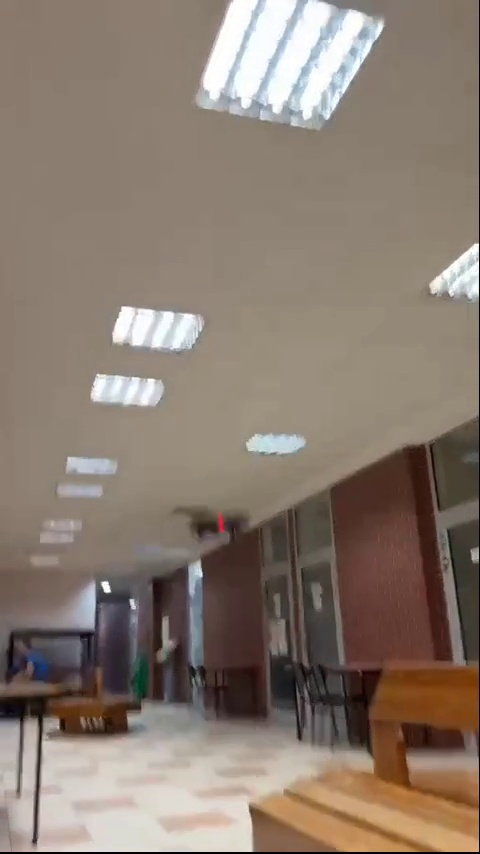drone: (194, 510, 250, 536)
no vest: (9, 634, 58, 690)
